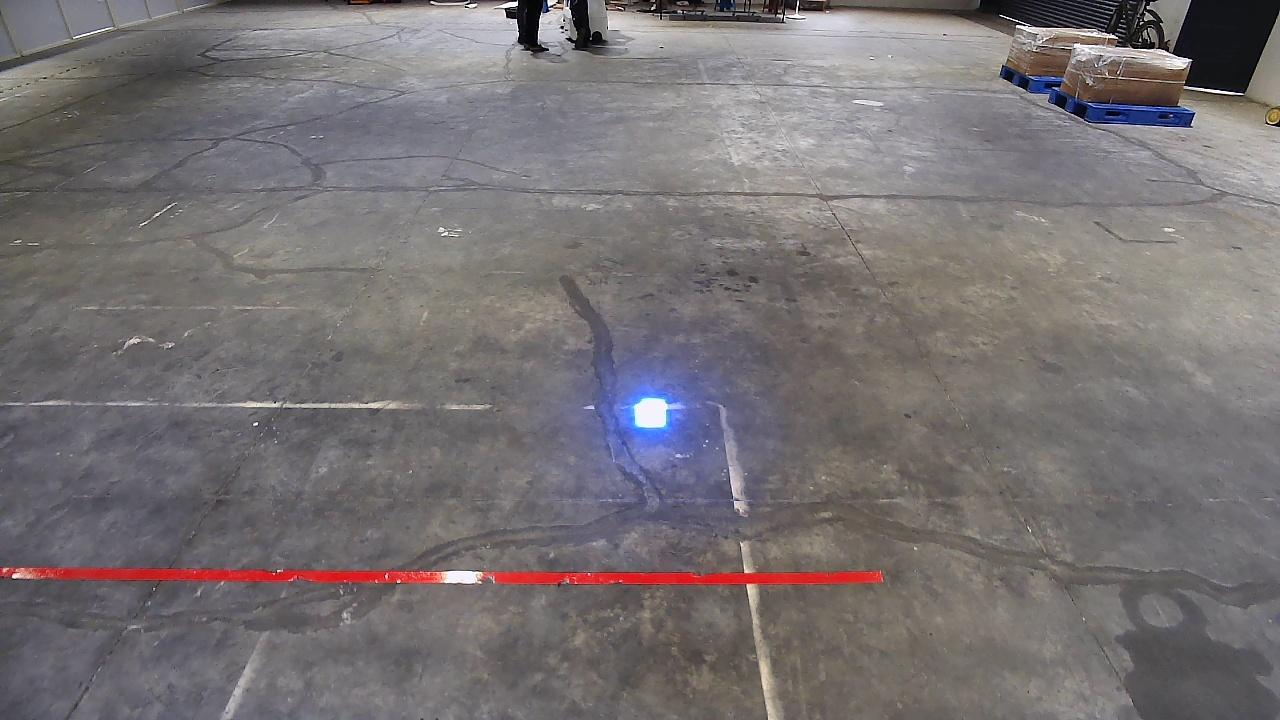red_line: (0, 565, 885, 581)
